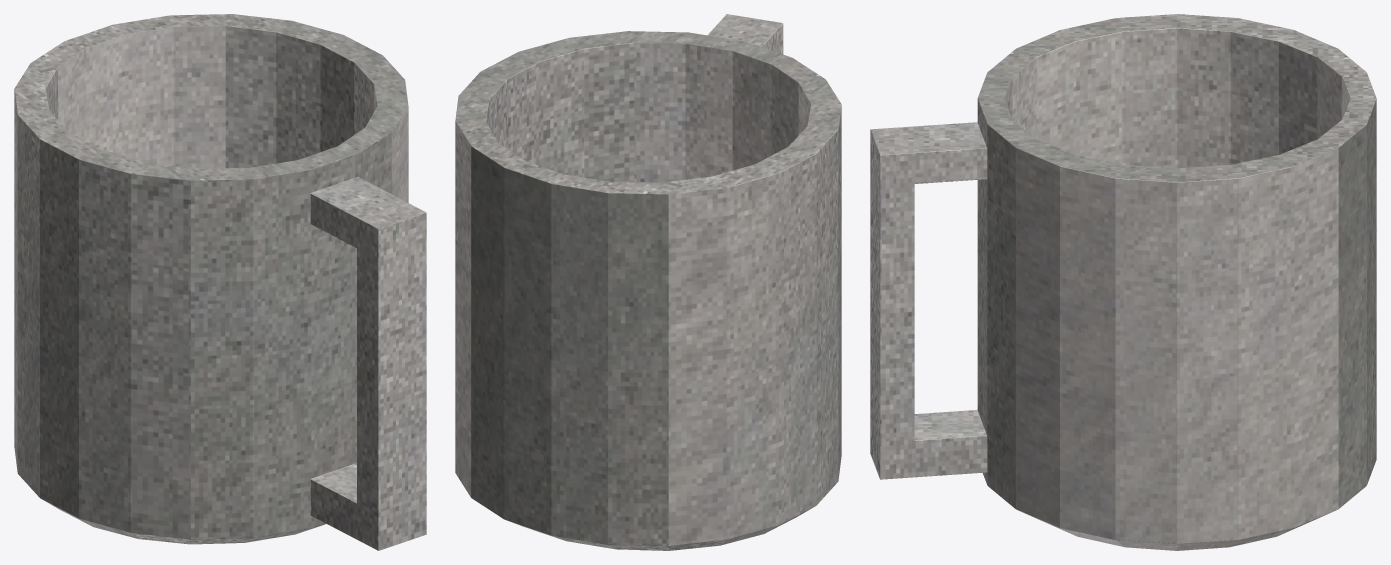
File: Cup1.fbx
The picture shows the model from 3 angles, left to right: view 1: azimuth 30°, elevation 25°; view 2: azimuth 150°, elevation 25°; view 3: azimuth 270°, elevation 25°; orthographic projection. The views are drawn at different scales.
Parts seen in each view (by area): view 1: pCylinder13; view 2: pCylinder13; view 3: pCylinder13.
Boxes of the visible parts, x1,y1,x2,y2 form: pCylinder13: [14, 14, 426, 550]; pCylinder13: [455, 14, 841, 550]; pCylinder13: [870, 14, 1376, 550].
Size of the model in its own units: 2 by 2.09 by 2.54.
Materials: 1 (1 with a texture image).
